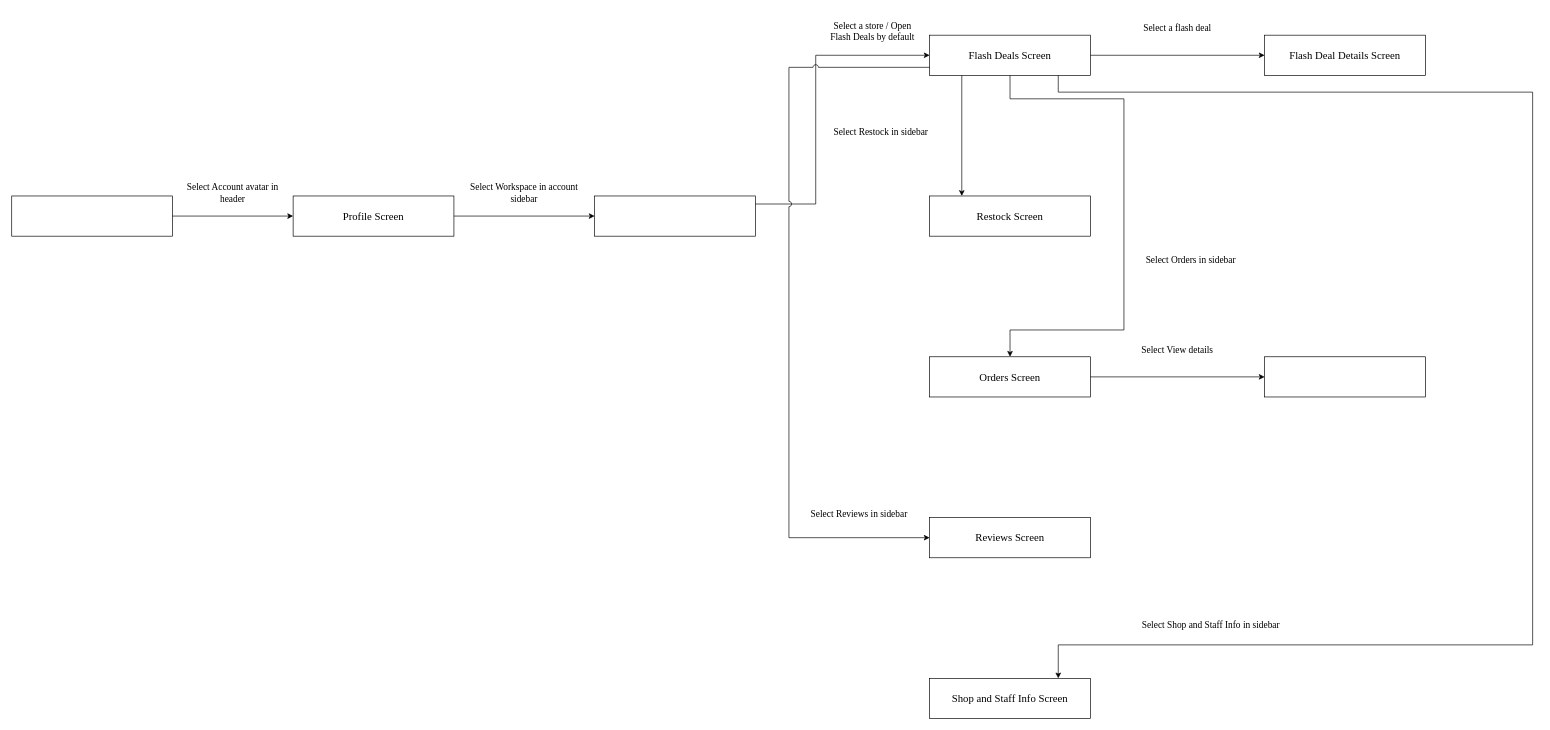
Image size: 1550x730. Some labels were removed from this diagram. Here are the shapes that lost their labels. From the top down, the centre of each, then its label:
point (92, 215): Customer Home Screen
point (674, 215): Workspace Screen
point (1344, 376): Order Details Screen
